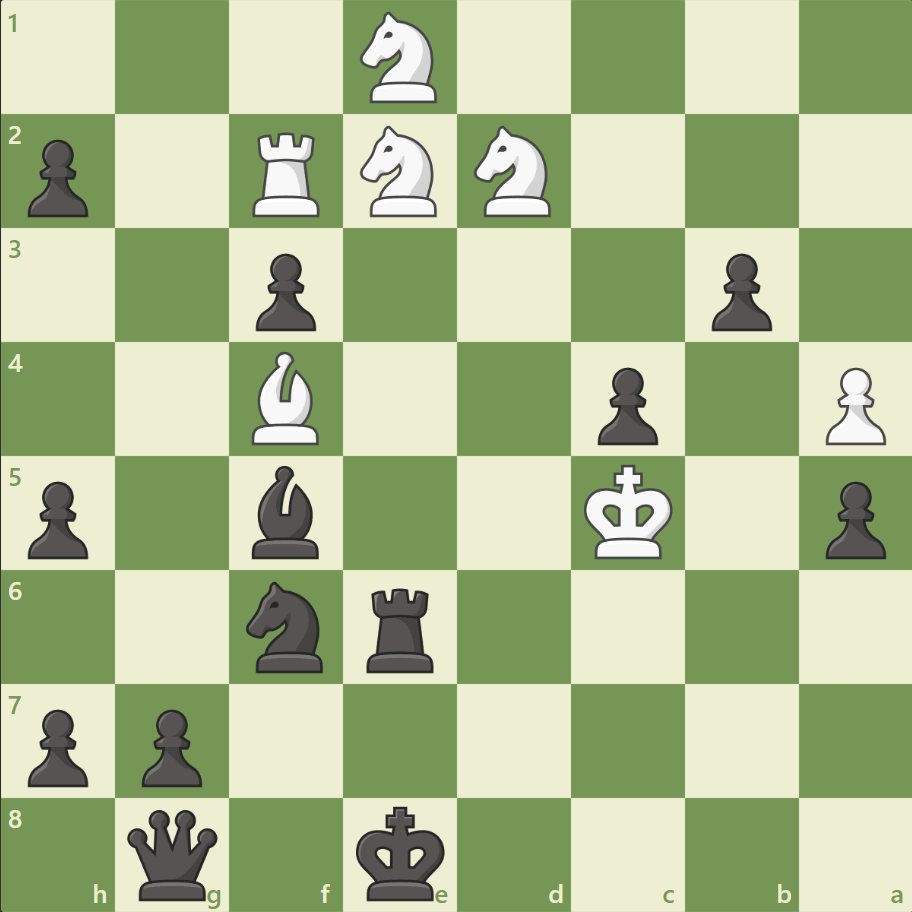B: (244, 347, 328, 449)
K: (579, 458, 679, 566)
N: (351, 7, 449, 110), (351, 121, 449, 223), (465, 121, 562, 223)
P: (815, 359, 889, 450)
R: (246, 125, 329, 222)
b: (244, 460, 328, 563)
k: (351, 798, 451, 906)
n: (238, 575, 335, 677)
p: (133, 700, 208, 791), (20, 700, 95, 791), (20, 473, 95, 564), (701, 246, 776, 337), (247, 246, 322, 337), (20, 132, 95, 223), (815, 473, 889, 564), (588, 359, 662, 450)
q: (124, 804, 223, 903)
r: (360, 579, 442, 676)
